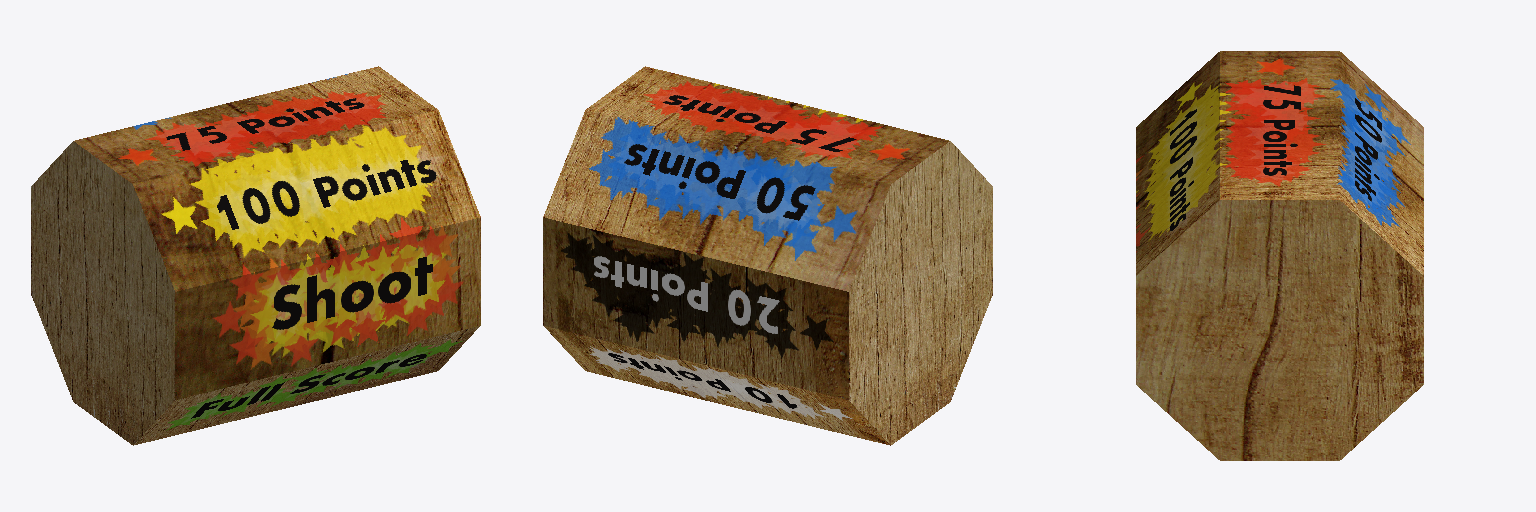
3 renders of one model, left to right at view 1: azimuth 30°, elevation 25°; view 2: azimuth 150°, elevation 25°; view 3: azimuth 270°, elevation 25°, orthographic.
Parts seen in each view (by area): view 1: Cylinder; view 2: Cylinder; view 3: Cylinder.
Boxes of the visible parts, box(x1,y1,x2,y2) form: Cylinder: box(31, 66, 480, 445); Cylinder: box(543, 66, 992, 445); Cylinder: box(1136, 51, 1423, 460).
Bounding box in the file's own units: 56.55 × 46.19 × 46.19.
1 materials, 1 textured.